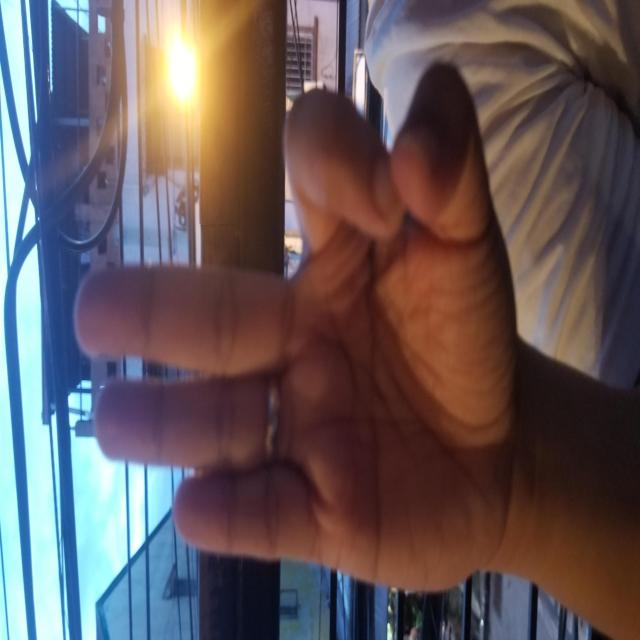F: (48, 71, 582, 518)
